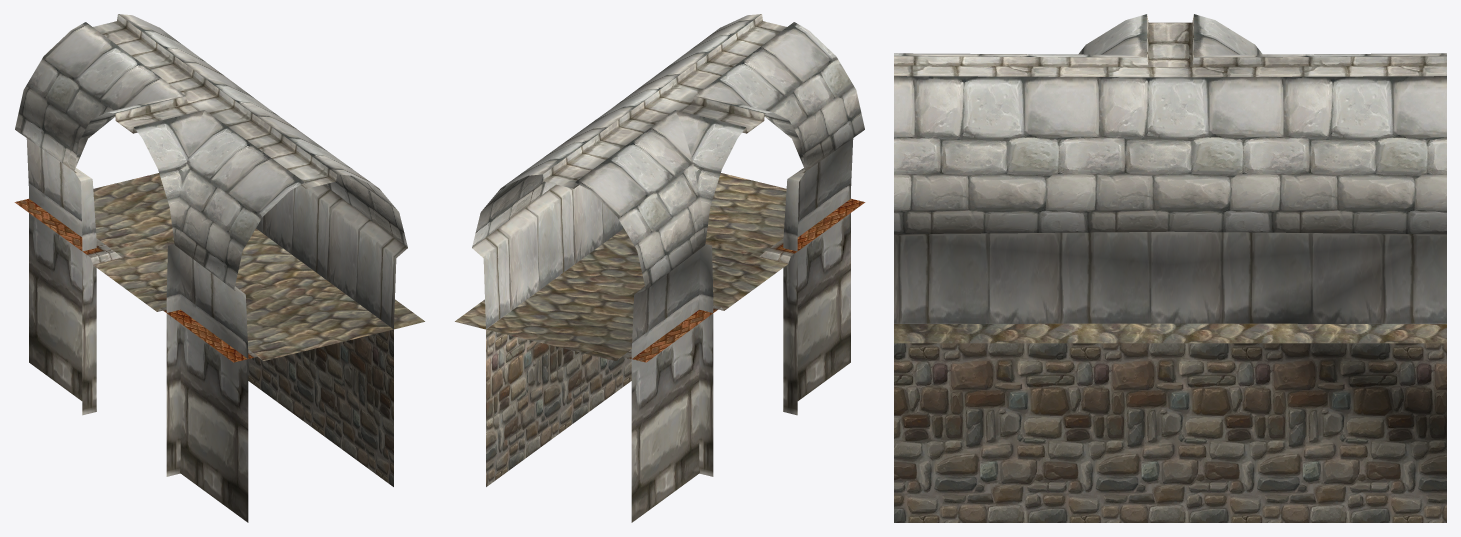
Rendered from stormwind_031.fbx.
The picture shows the model from 3 angles, left to right: view 1: azimuth 30°, elevation 25°; view 2: azimuth 150°, elevation 25°; view 3: azimuth 270°, elevation 25°; orthographic projection. The views are drawn at different scales.
Visible parts, largest first — view 1: stormwind_031_11, stormwind_031_4, stormwind_031_46, stormwind_031_3, stormwind_031_5, stormwind_031_12; view 2: stormwind_031_11, stormwind_031_4, stormwind_031_46, stormwind_031_3, stormwind_031_5, stormwind_031_12; view 3: stormwind_031_3, stormwind_031_4, stormwind_031_11, stormwind_031_5, stormwind_031_46.
Part boxes in pixels (bbox=[...]): stormwind_031_11: bbox=[26, 138, 407, 522]; stormwind_031_4: bbox=[15, 14, 407, 289]; stormwind_031_46: bbox=[93, 173, 424, 360]; stormwind_031_3: bbox=[248, 329, 393, 486]; stormwind_031_5: bbox=[93, 14, 336, 188]; stormwind_031_12: bbox=[14, 198, 261, 362]; stormwind_031_11: bbox=[472, 138, 853, 522]; stormwind_031_4: bbox=[472, 14, 864, 289]; stormwind_031_46: bbox=[455, 173, 787, 360]; stormwind_031_3: bbox=[486, 329, 631, 486]; stormwind_031_5: bbox=[543, 14, 786, 188]; stormwind_031_12: bbox=[618, 198, 865, 362]; stormwind_031_3: bbox=[894, 343, 1446, 522]; stormwind_031_4: bbox=[894, 14, 1446, 234]; stormwind_031_11: bbox=[894, 231, 1446, 323]; stormwind_031_5: bbox=[894, 14, 1446, 77]; stormwind_031_46: bbox=[894, 323, 1446, 343].
Bounding box in the file's own units: 11.11 × 18.07 × 21.97.
